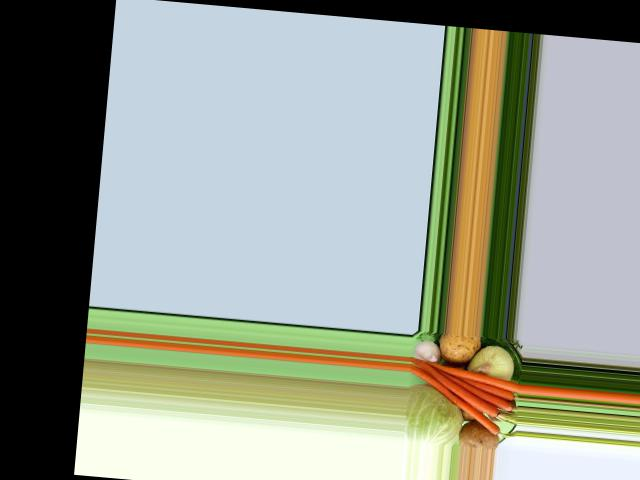carrot: (413, 357, 521, 393)
